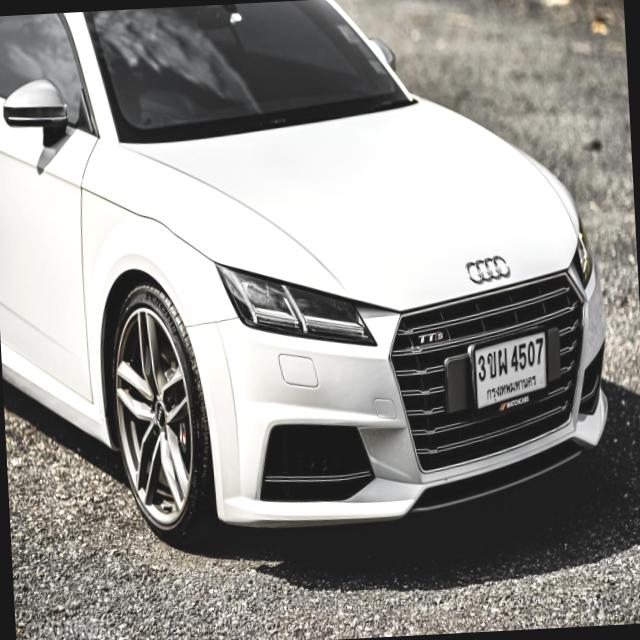license_plate: (468, 324, 555, 418)
